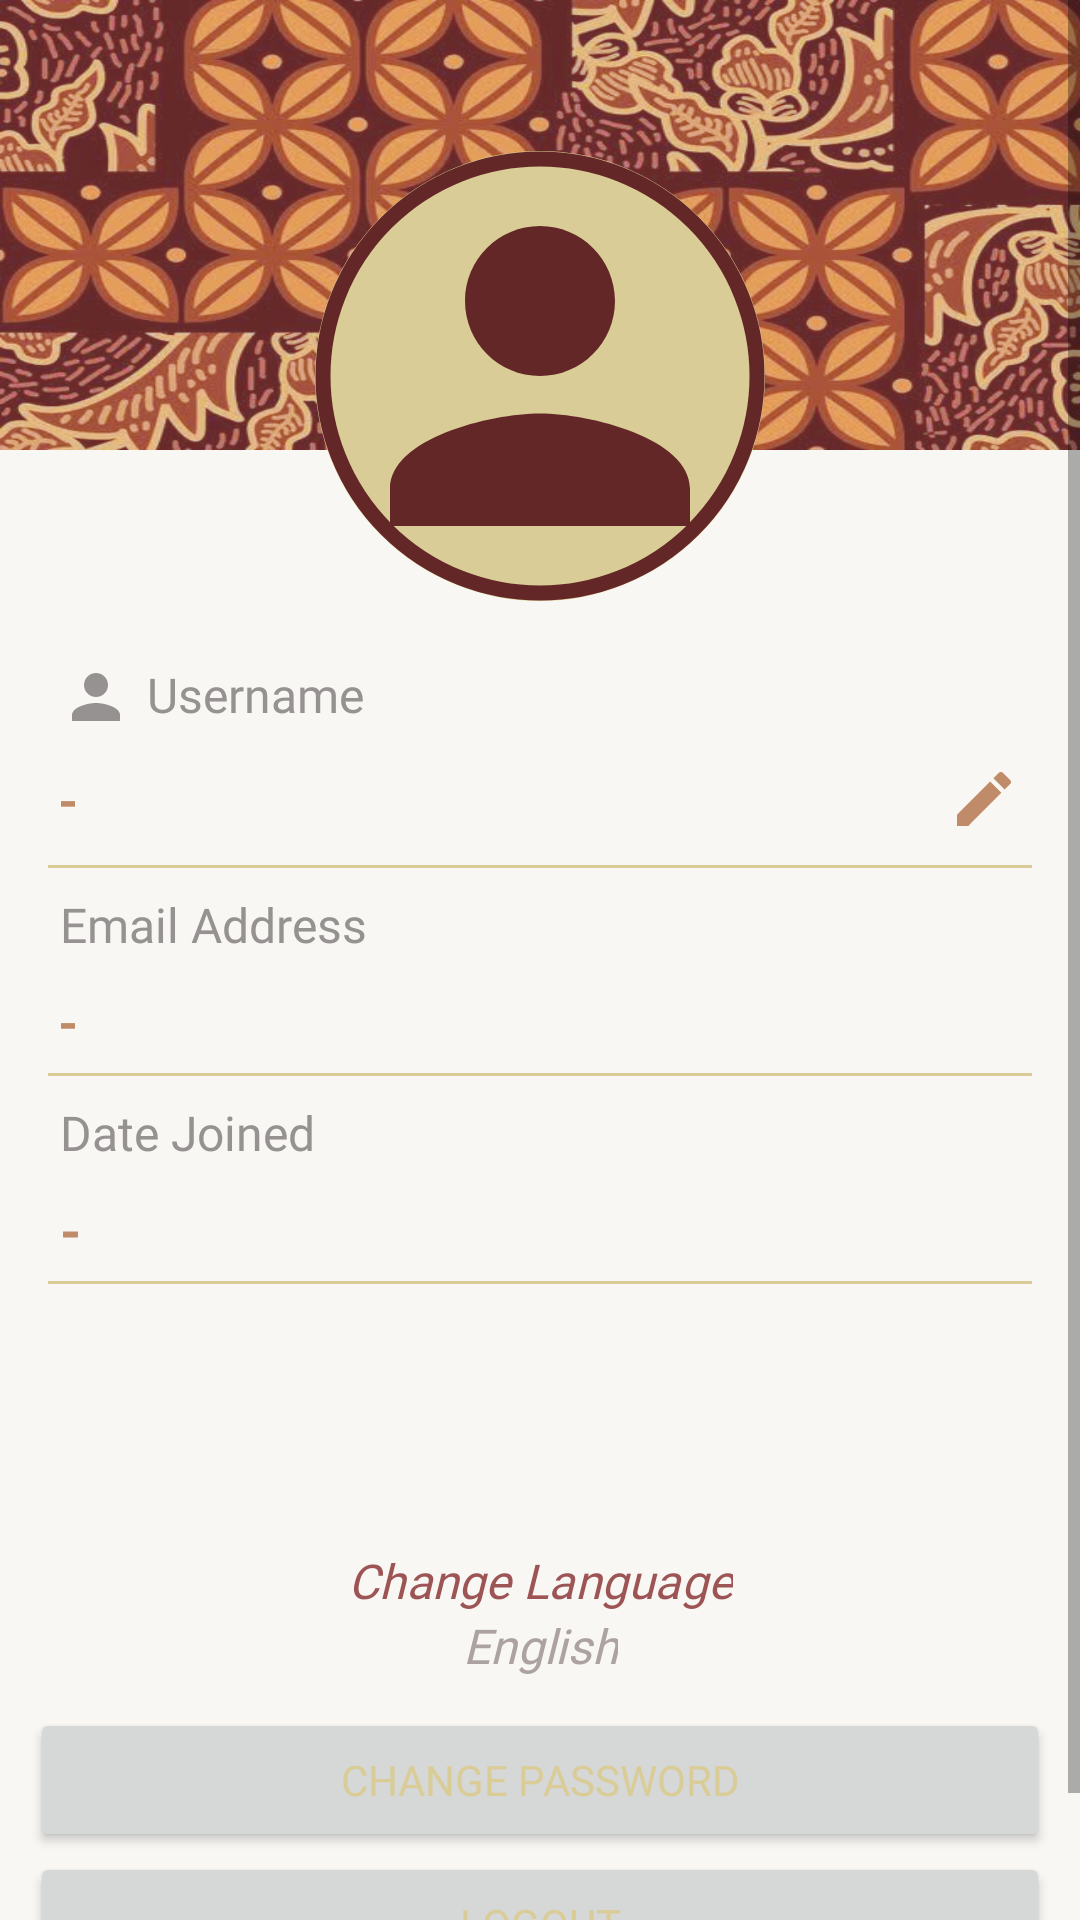

Icons on this 1080px×1920px Android screen, each with its box as {"left": x1, "top": y1, "right": x2, "bottom": y2}:
edit: {"left": 957, "top": 772, "right": 1011, "bottom": 826}
